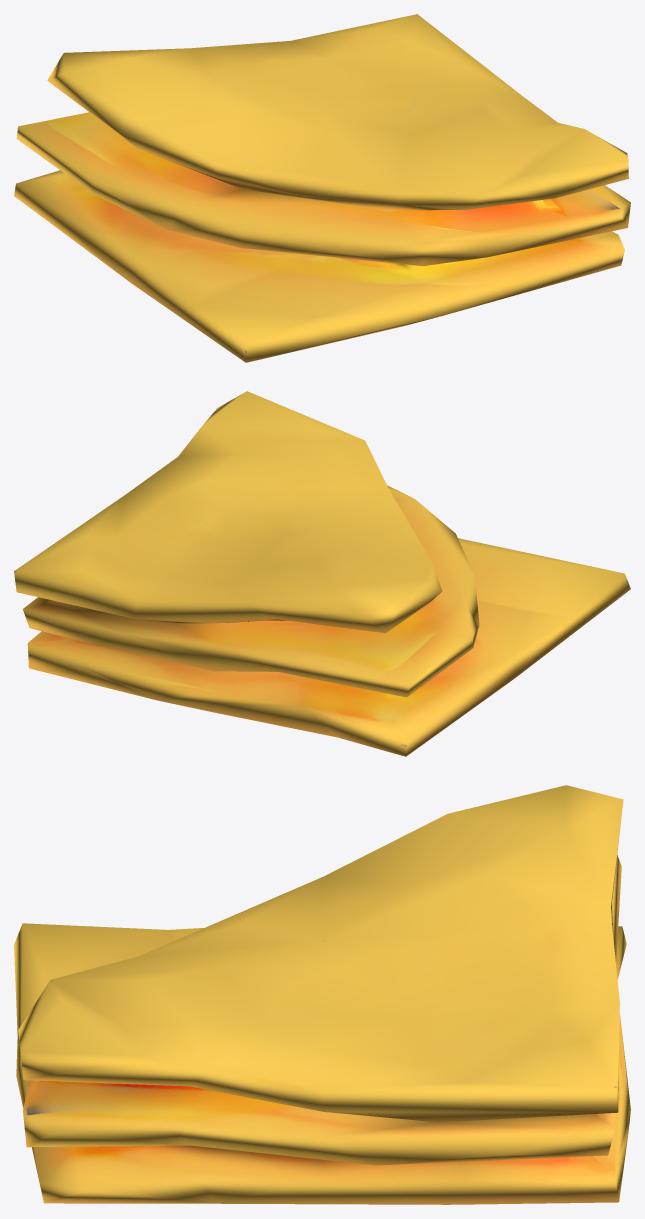
The model's file is CheeseSlices.fbx.
3 renders of one model, top to bottom at view 1: azimuth 30°, elevation 25°; view 2: azimuth 150°, elevation 25°; view 3: azimuth 270°, elevation 25°, orthographic. The views are drawn at different scales.
Parts seen in each view (by area): view 1: tripo_node_d9642f7a; view 2: tripo_node_d9642f7a; view 3: tripo_node_d9642f7a.
Boxes of the visible parts, left/top/right/bottom form: tripo_node_d9642f7a: left=14, top=14, right=630, bottom=362; tripo_node_d9642f7a: left=14, top=391, right=630, bottom=756; tripo_node_d9642f7a: left=14, top=785, right=630, bottom=1204.
Bounding box in the file's own units: 0.9974 × 0.3421 × 0.9927.
1 material, 1 textured.
